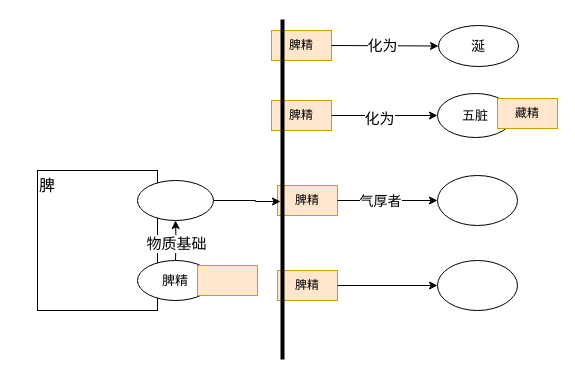
Image size: 575x378. Some labels were removed from this diagram. The centre of each missing label's shape, as x and y in pixels:
化卫化气: the point at 477,285
化营化血: the point at 477,200
水谷精微: the point at 227,280
脾的功能: the point at 175,200
